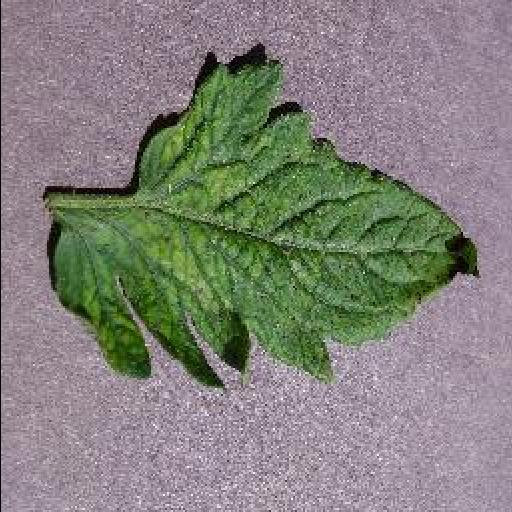Mosaic Virus: (49, 60, 483, 392)
